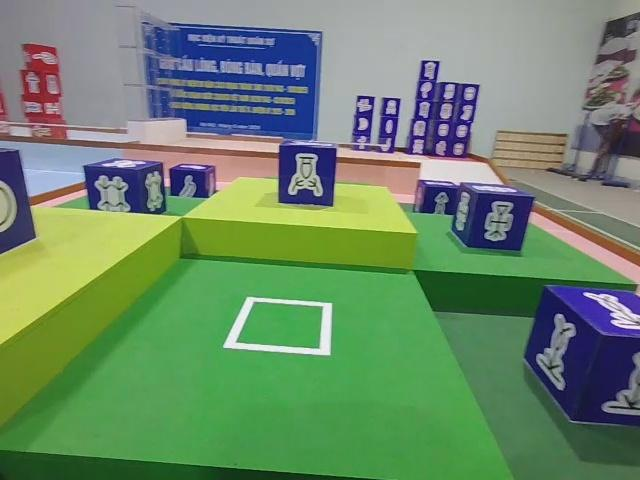R2 Real Blue: (524, 289, 638, 435), (452, 183, 536, 254), (85, 156, 169, 215), (276, 139, 337, 208), (168, 162, 219, 198), (412, 181, 461, 217)
